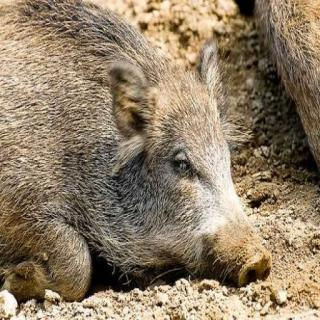Pig: (0, 0, 284, 300)
